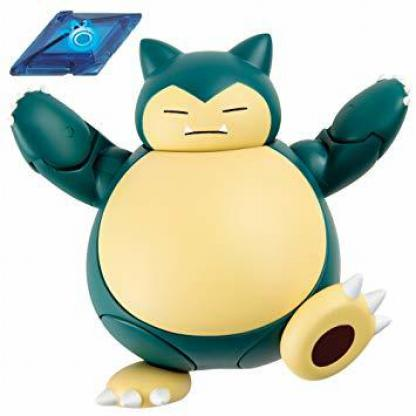Snorlax: (1, 33, 416, 410)
